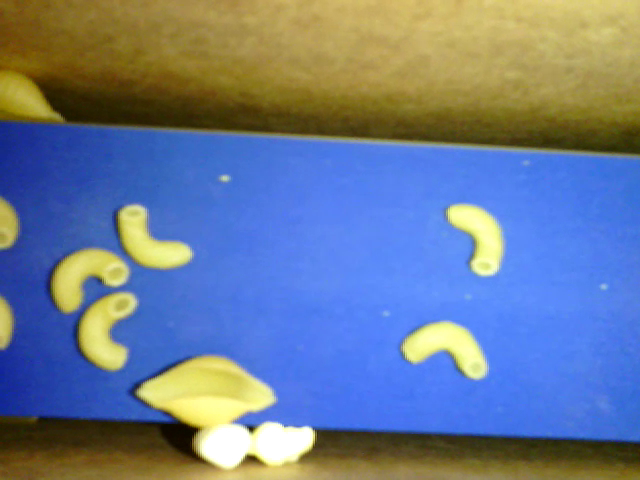elbow: (75, 287, 141, 371), (50, 247, 126, 317), (400, 321, 486, 379), (117, 206, 192, 269), (447, 201, 504, 280)
shell: (133, 351, 279, 427), (1, 70, 69, 124)
